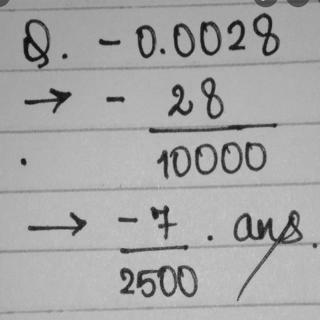.: (56, 45, 77, 63), (202, 231, 219, 248), (159, 45, 168, 55)
0: (200, 20, 227, 61), (133, 23, 156, 61), (173, 23, 197, 57), (243, 138, 267, 172), (220, 140, 242, 175), (177, 267, 201, 299), (196, 143, 218, 176), (171, 146, 192, 175), (158, 264, 177, 296)
1: (154, 145, 171, 185)
2: (169, 84, 194, 120), (224, 19, 245, 51), (117, 266, 137, 297)
5: (136, 266, 156, 299)
7: (151, 204, 178, 242)
8: (252, 13, 284, 58), (198, 79, 227, 121)
